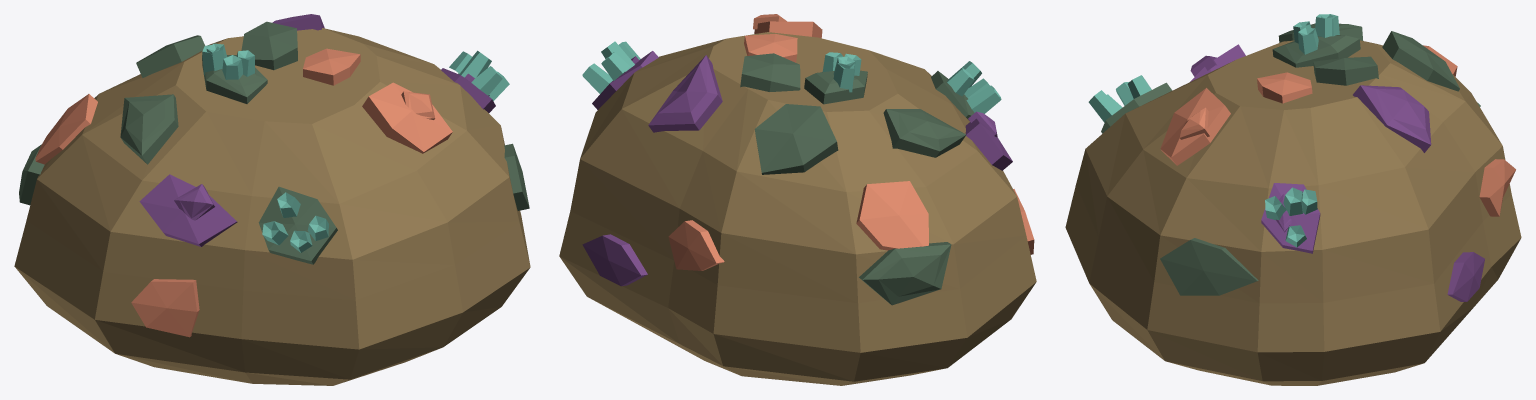
File: encrusted-reef-boulder-972d95.glb
The picture shows the model from 3 angles, left to right: view 1: azimuth 30°, elevation 25°; view 2: azimuth 150°, elevation 25°; view 3: azimuth 270°, elevation 25°; orthographic projection.
Parts seen in each view (by area): view 1: encrusted-reef-boulder-shell; view 2: encrusted-reef-boulder-shell; view 3: encrusted-reef-boulder-shell.
Part boxes in pixels (x1,y1,x2,y2): encrusted-reef-boulder-shell: [14, 14, 530, 385]; encrusted-reef-boulder-shell: [559, 14, 1036, 385]; encrusted-reef-boulder-shell: [1065, 14, 1521, 385].
Size of the model in its own units: 2.66 by 1.62 by 2.43.
